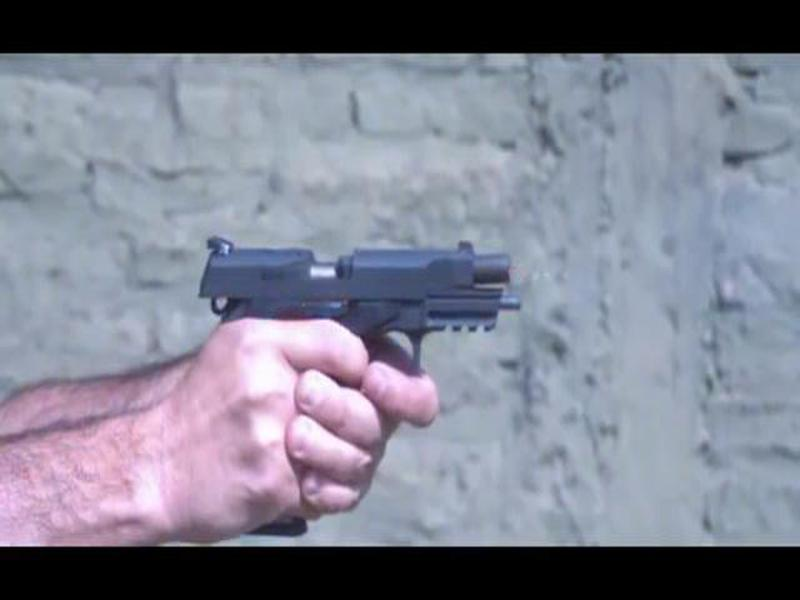Pistola: (167, 231, 525, 540)
